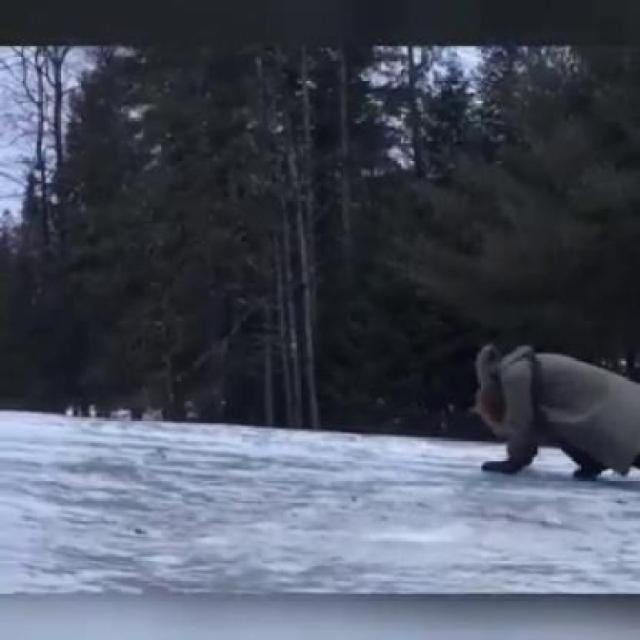fall: (474, 343, 638, 489)
